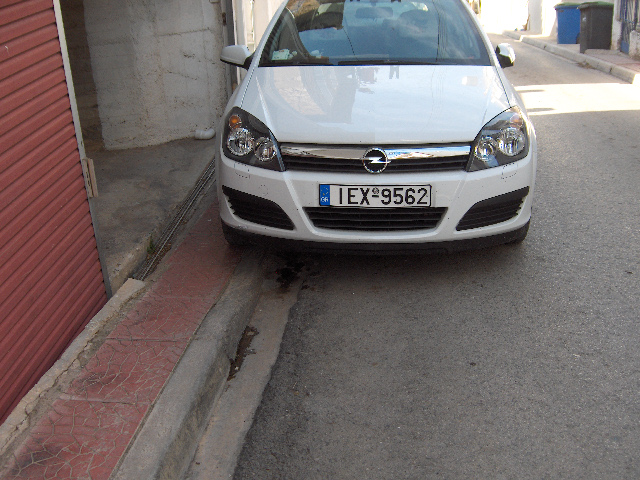licenseplate: (317, 182, 431, 208)
